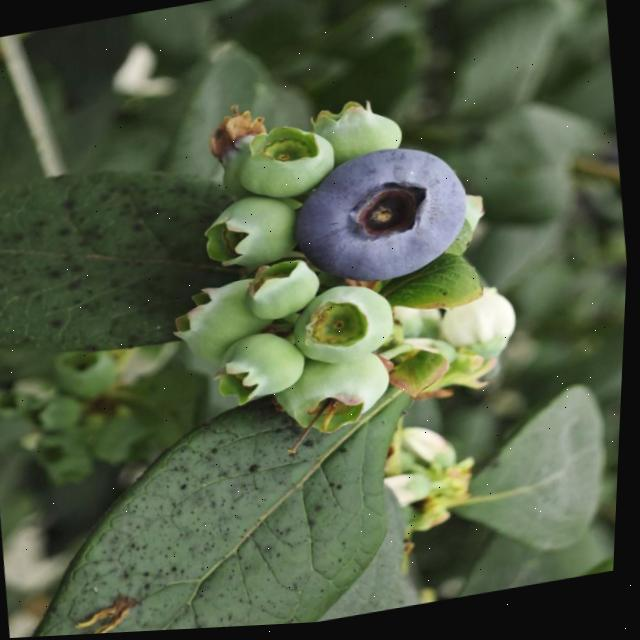RipeBlueBerry: (282, 138, 480, 302)
UnripeBlueBerry: (274, 351, 399, 443), (285, 280, 403, 374), (230, 121, 342, 208), (197, 193, 303, 279), (210, 328, 312, 409), (243, 258, 327, 326)
